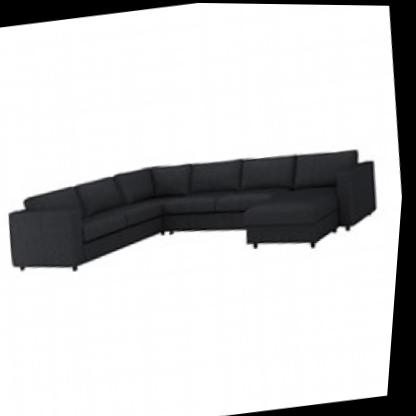Sofa: (0, 132, 388, 287)
